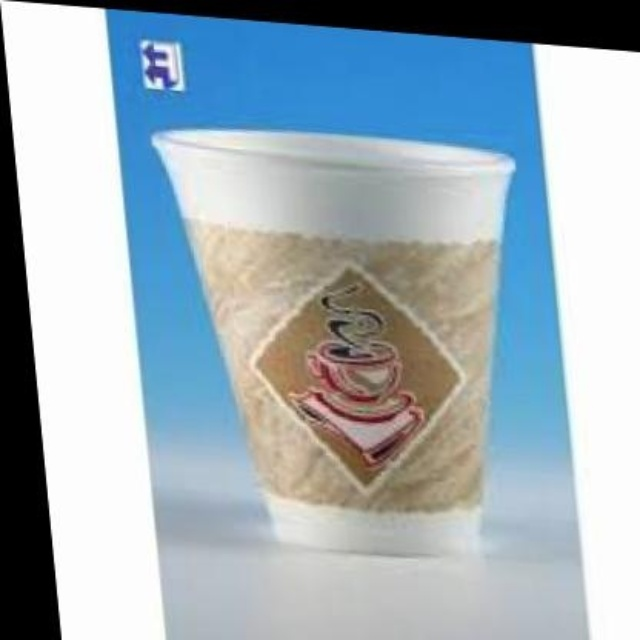trash: (152, 129, 512, 552)
